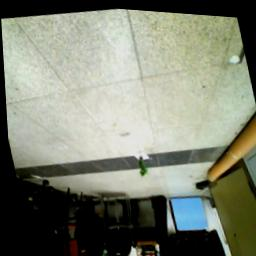herb: (134, 153, 148, 177)
